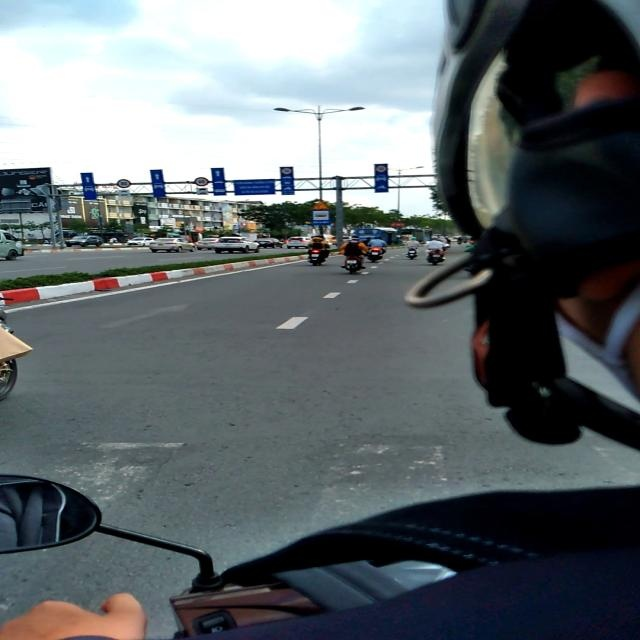bien_chi_dan: (312, 210, 331, 225), (312, 200, 329, 210), (116, 179, 132, 188), (194, 177, 209, 186), (375, 165, 387, 173), (281, 167, 292, 175)
